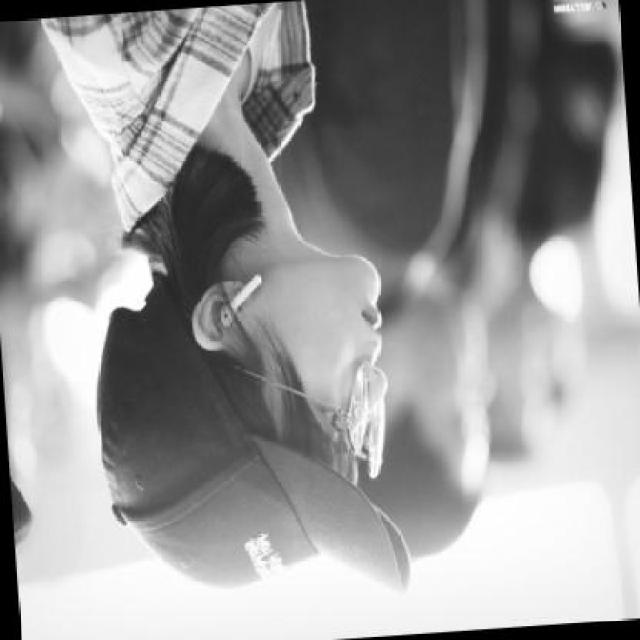earphone: (217, 258, 296, 357)
